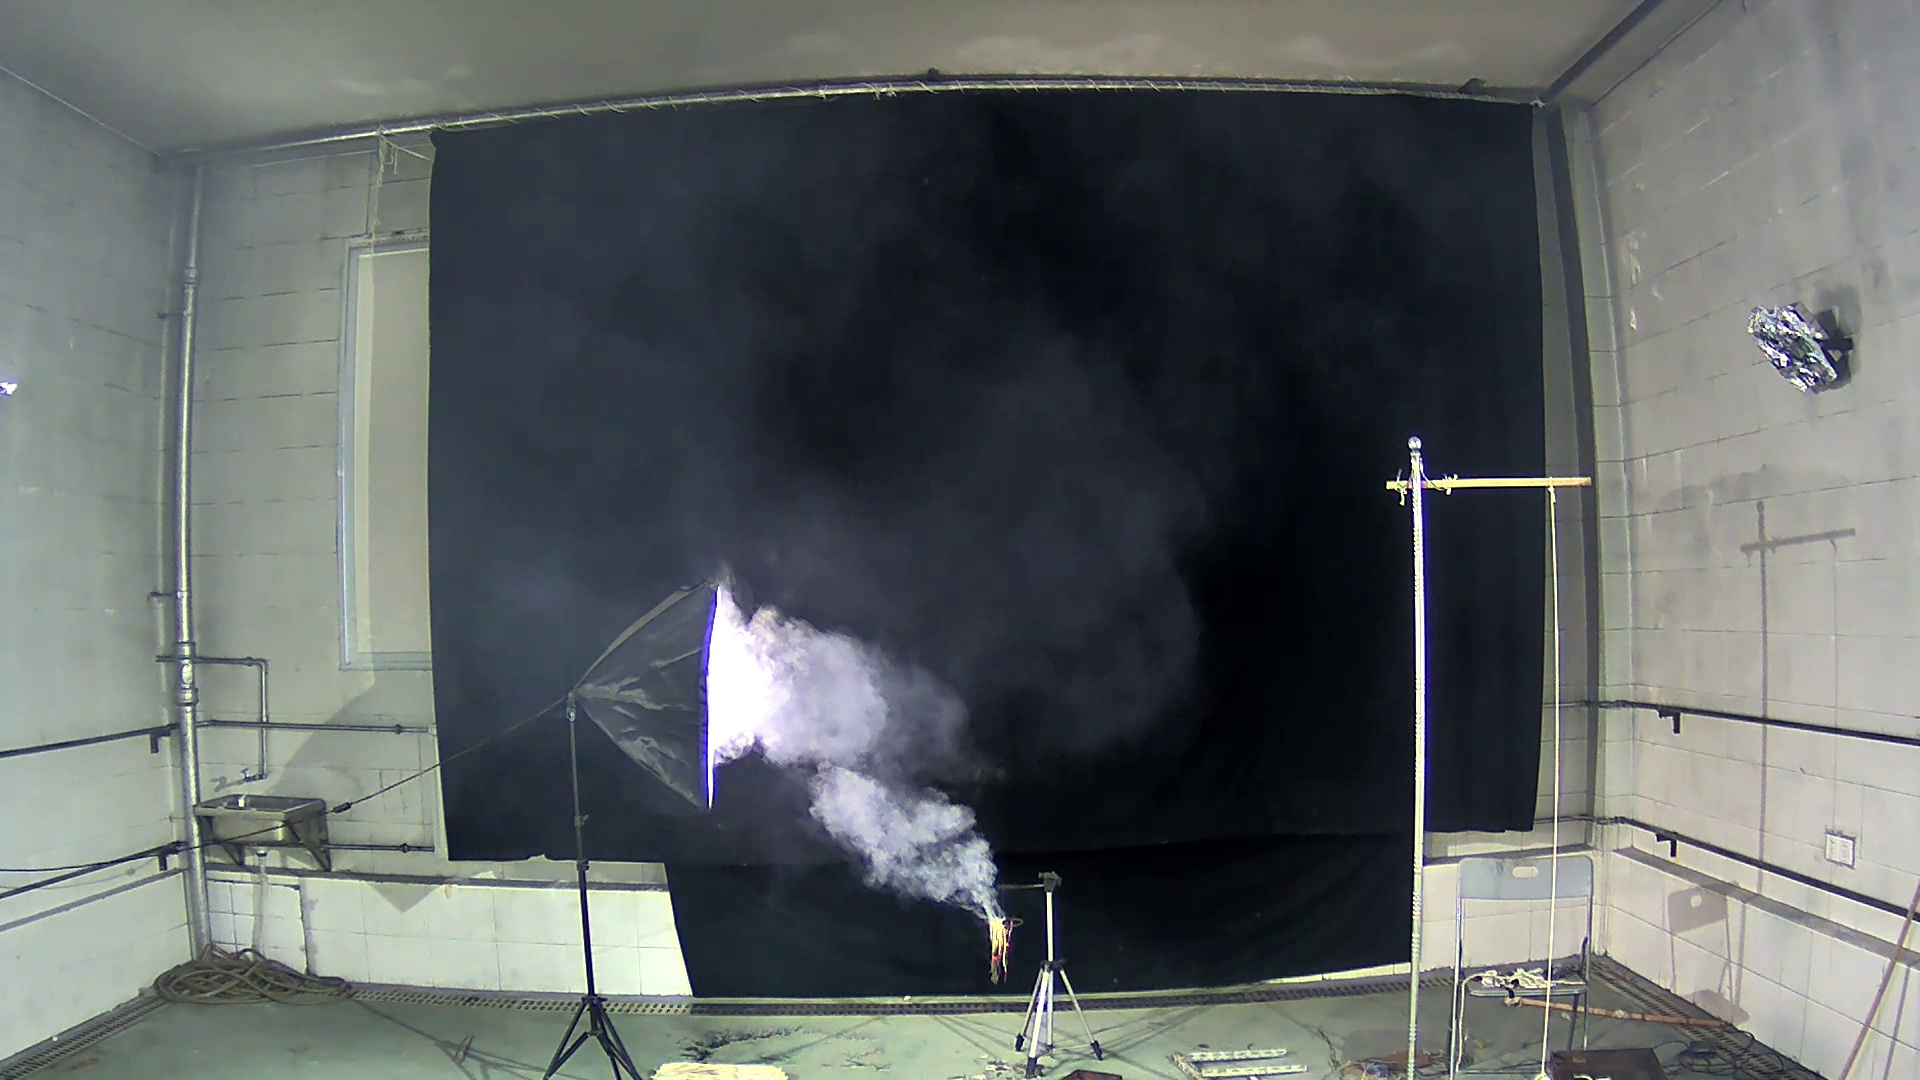smoke: (727, 543, 1077, 922)
